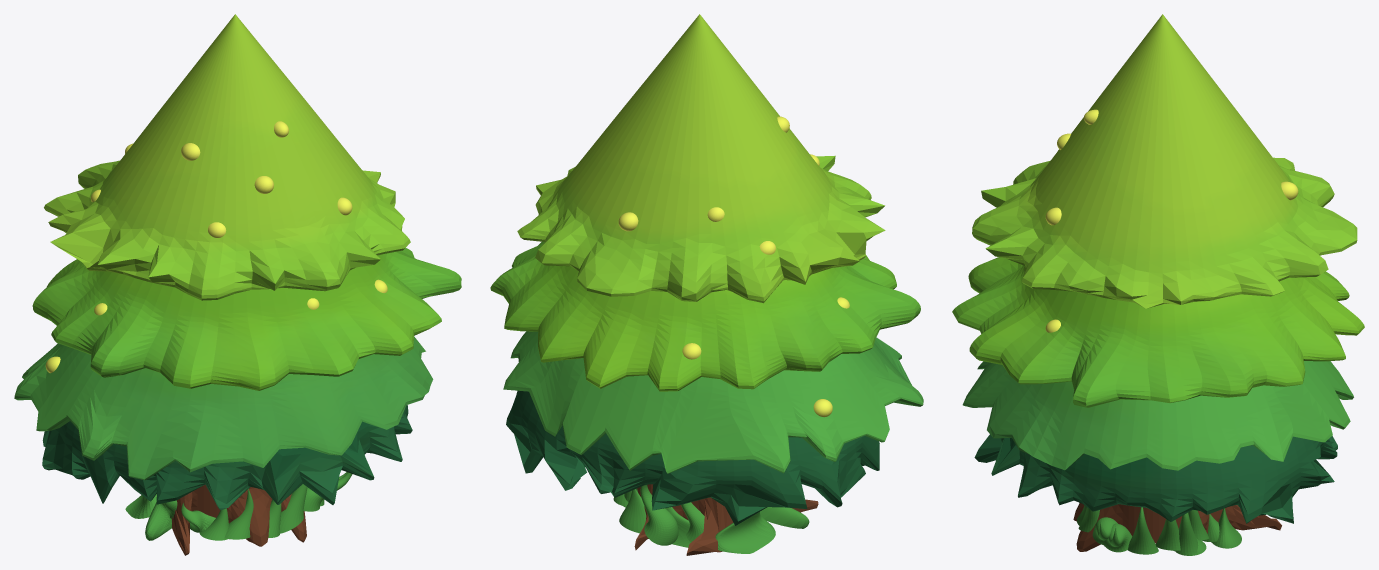
File: tree.glb
3 renders of one model, left to right at view 1: azimuth 30°, elevation 25°; view 2: azimuth 150°, elevation 25°; view 3: azimuth 270°, elevation 25°, orthographic. The views are drawn at different scales.
Visible parts, largest first — view 1: Cone (×2), Cone 1, Cone 2, Cylinder 1, Tube 5, Tube 14, Tube 1, Tube 2; view 2: Cone (×2), Cone 1, Cone 2, Cylinder, Tube 15, Tube 19, Tube 14, Tube 17, Tube 18; view 3: Cone (×2), Cone 1, Cone 2, Cylinder 1, Cylinder, Tube 8, Tube 17, Tube 10, Tube 7, Tube 9.
Boxes of the visible parts, left/top/right/bottom form: Cone (×2): left=42, top=14, right=412, bottom=510; Cone 1: left=32, top=248, right=461, bottom=390; Cone 2: left=14, top=336, right=433, bottom=480; Cylinder 1: left=172, top=487, right=306, bottom=555; Tube 5: left=279, top=484, right=307, bottom=533; Tube 14: left=145, top=494, right=171, bottom=540; Tube 1: left=224, top=489, right=253, bottom=539; Tube 2: left=199, top=508, right=228, bottom=540; Cone (×2): left=506, top=14, right=885, bottom=525; Cone 1: left=490, top=241, right=920, bottom=391; Cone 2: left=503, top=331, right=923, bottom=473; Cylinder: left=634, top=484, right=733, bottom=555; Tube 15: left=715, top=512, right=775, bottom=553; Tube 19: left=640, top=485, right=678, bottom=545; Tube 14: left=760, top=507, right=809, bottom=528; Tube 17: left=619, top=489, right=646, bottom=533; Tube 18: left=681, top=502, right=704, bottom=542; Cone (×2): left=972, top=14, right=1357, bottom=523; Cone 1: left=952, top=257, right=1364, bottom=407; Cone 2: left=962, top=361, right=1353, bottom=470; Cylinder 1: left=1073, top=503, right=1165, bottom=551; Cylinder: left=1138, top=505, right=1281, bottom=536; Tube 8: left=1128, top=507, right=1158, bottom=554; Tube 17: left=1211, top=508, right=1241, bottom=548; Tube 10: left=1173, top=512, right=1198, bottom=553; Tube 7: left=1103, top=523, right=1132, bottom=552; Tube 9: left=1155, top=519, right=1180, bottom=550.
Bounding box in the file's own units: 1.12 × 1.42 × 1.02.
